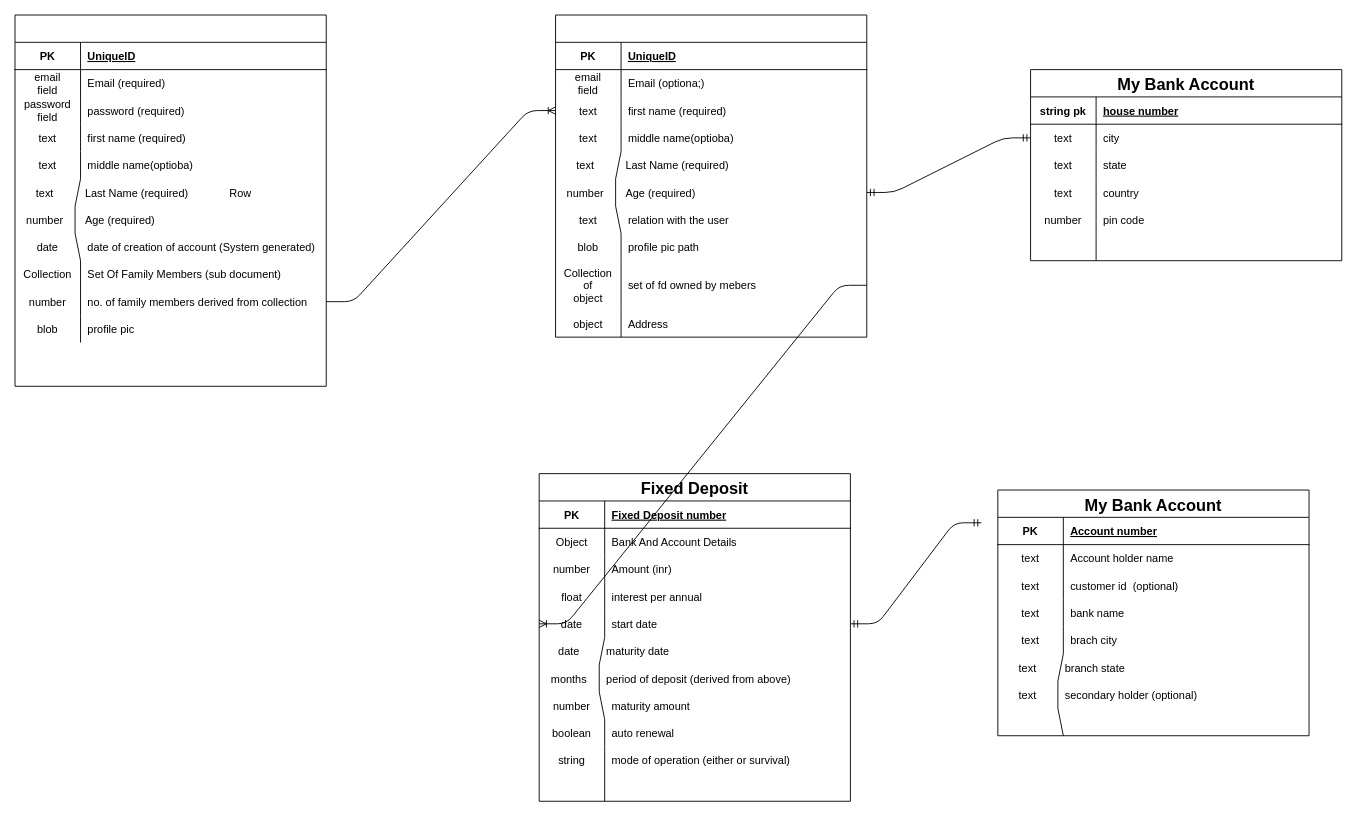
This 1357x816 diagram has some shape labels left out. The shapes that lost their labels are listed below. From the top down, each one's box as (x1, y1, x2, y2) in pixels, then its label:
(555, 14, 867, 337): Family Member
(14, 14, 326, 386): Application User
